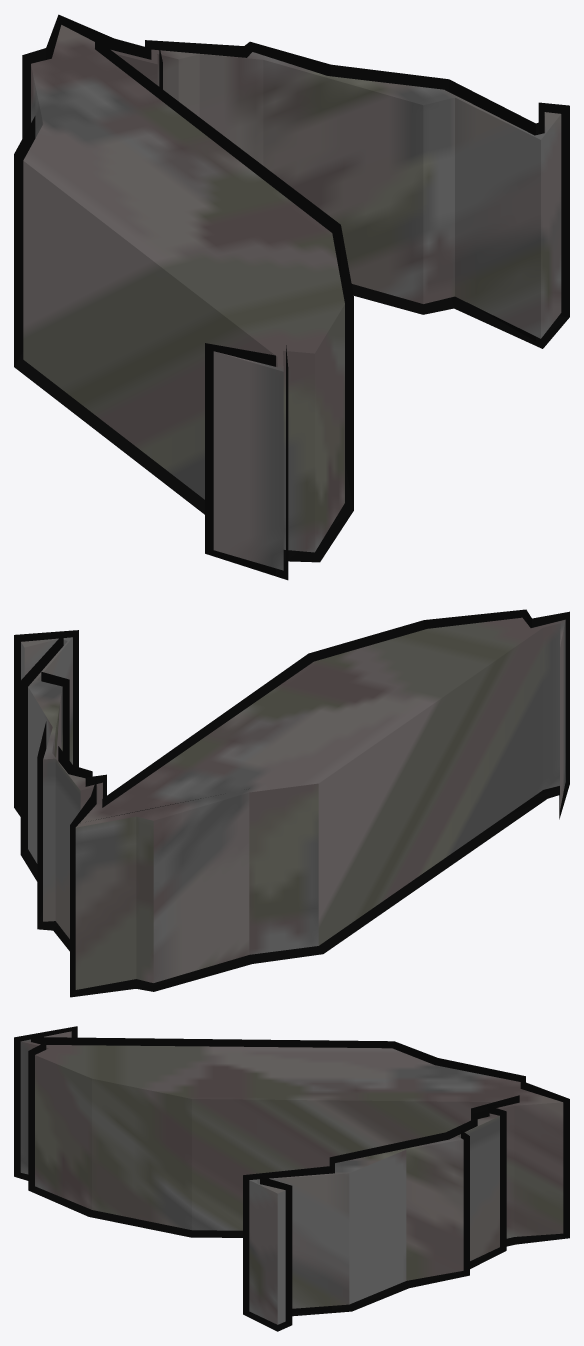
The model's file is Building_FloorEtchingRambling_Things_Filth_FloorEtchings_FloorEtchingH.glb.
3 views of the same model, one above another, from view 1: azimuth 30°, elevation 25°; view 2: azimuth 150°, elevation 25°; view 3: azimuth 270°, elevation 25° (orthographic). The views are drawn at different scales.
Parts seen in each view (by area): view 1: Body, Outline; view 2: Body, Outline; view 3: Body, Outline.
Boxes of the visible parts, x1=… form: Body: x1=23, y1=25, x2=561, y2=570; Outline: x1=14, y1=14, x2=569, y2=580; Body: x1=21, y1=617, x2=565, y2=989; Outline: x1=14, y1=609, x2=569, y2=997; Body: x1=20, y1=1031, x2=563, y2=1324; Outline: x1=14, y1=1026, x2=569, y2=1331.
Size of the model in its own units: 0.7688 by 0.3138 by 1.09.
Materials: 2 (1 with a texture image).
